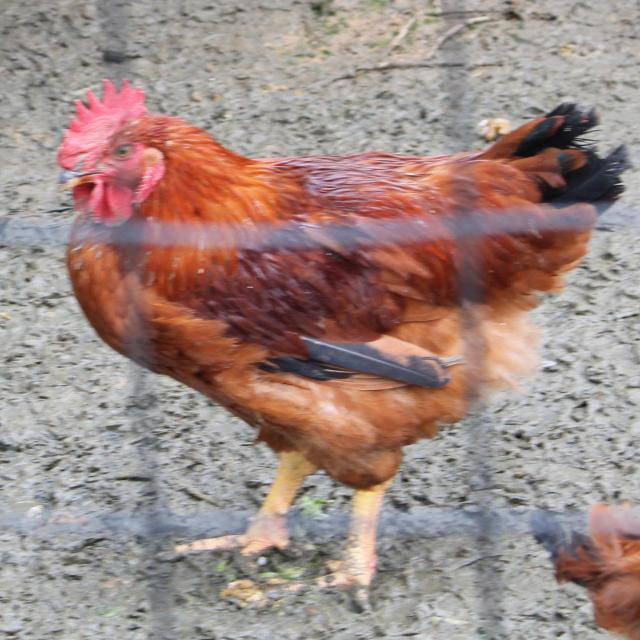cook: (37, 78, 629, 607)
